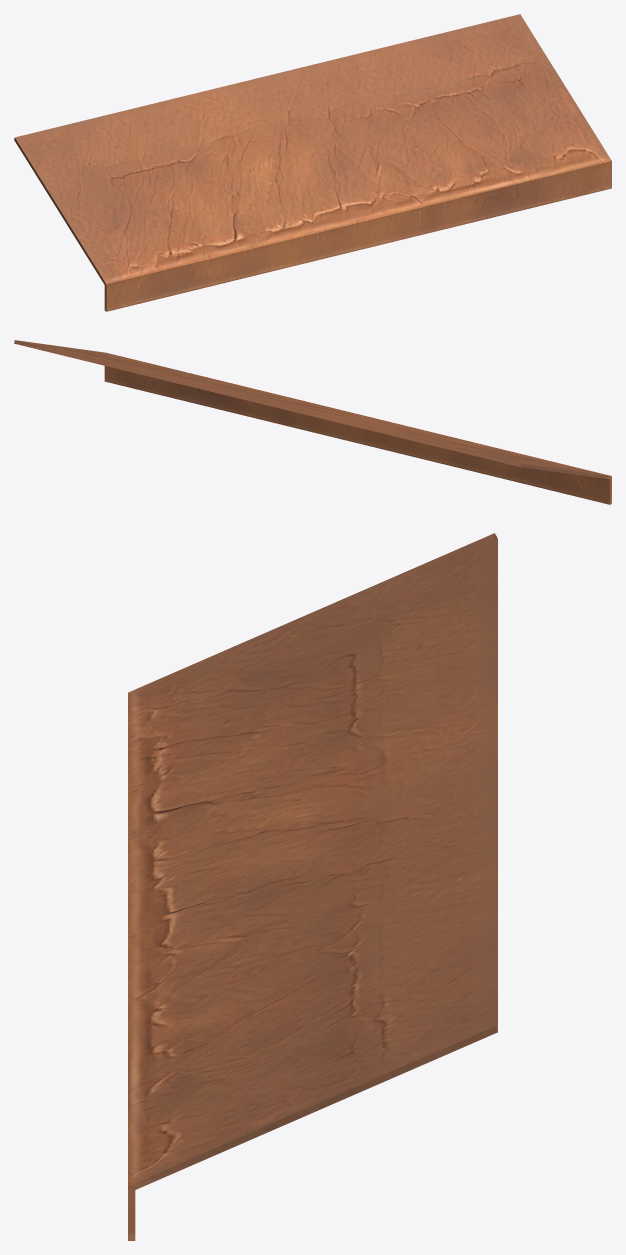
Rendered from MSN_Awning4.fbx.
3 views of the same model, one above another, from view 1: azimuth 30°, elevation 25°; view 2: azimuth 150°, elevation 25°; view 3: azimuth 270°, elevation 25° (orthographic). The views are drawn at different scales.
Parts seen in each view (by area): view 1: MSN_Awning4; view 2: MSN_Awning4; view 3: MSN_Awning4.
Boxes of the visible parts, left/top/right/bottom form: MSN_Awning4: left=14, top=14, right=611, bottom=311; MSN_Awning4: left=14, top=340, right=611, bottom=504; MSN_Awning4: left=128, top=533, right=497, bottom=1240.
Size of the model in its own units: 4 by 1.27 by 0.8113.
Materials: 1 (1 with a texture image).
